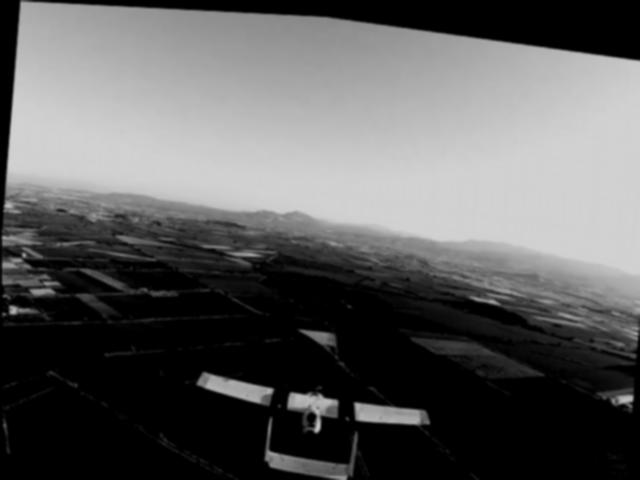hedef: (184, 349, 441, 480)
